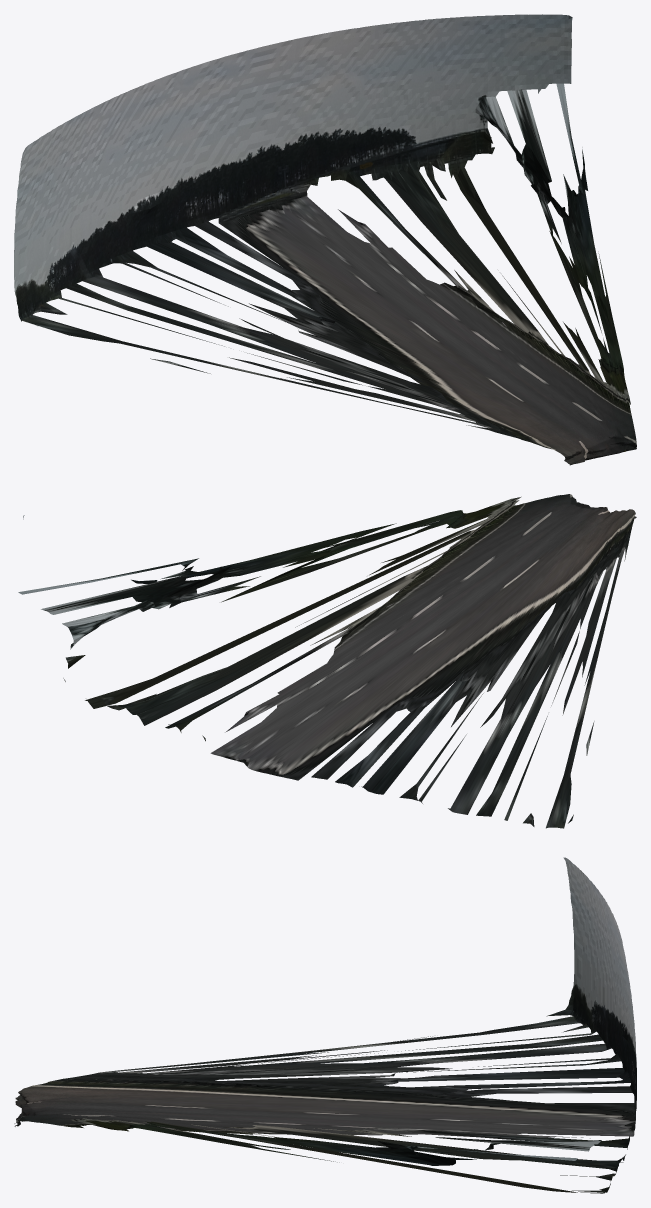
3 renders of one model, top to bottom at view 1: azimuth 30°, elevation 25°; view 2: azimuth 150°, elevation 25°; view 3: azimuth 270°, elevation 25°, orthographic. The views are drawn at different scales.
Parts seen in each view (by area): view 1: defaultobject; view 2: defaultobject; view 3: defaultobject.
Boxes of the visible parts, x1,y1,x2,y2 form: defaultobject: [14, 14, 636, 465]; defaultobject: [18, 494, 636, 828]; defaultobject: [14, 857, 636, 1193].
Size of the model in its own units: 41.09 by 13.29 by 44.39.
1 material, 1 textured.
